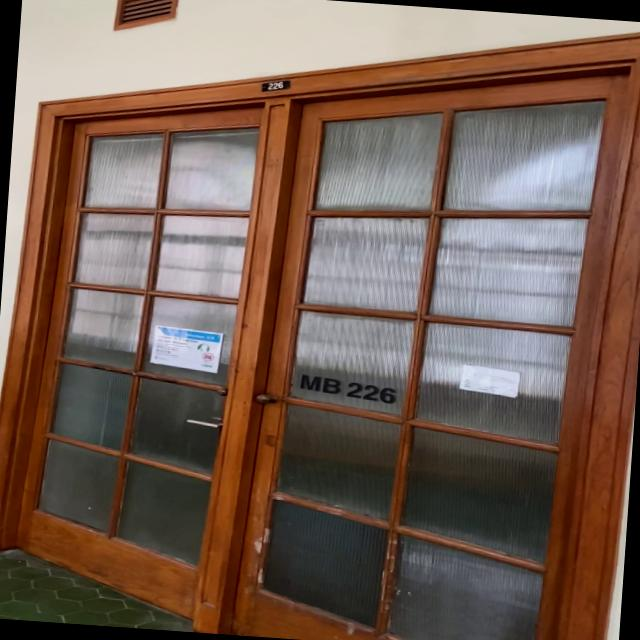room226: (257, 76, 293, 96)
room226Window: (296, 370, 396, 407)
